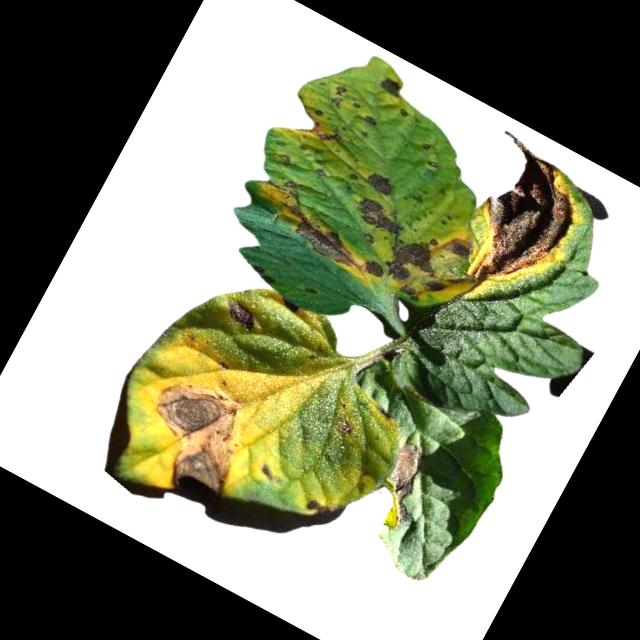Early_blight: (434, 125, 605, 310), (116, 356, 270, 510), (247, 171, 375, 272), (375, 225, 463, 313), (363, 436, 436, 532), (215, 291, 265, 339), (354, 192, 407, 236), (300, 483, 344, 522), (373, 68, 412, 103), (362, 164, 400, 199), (308, 117, 344, 147), (358, 252, 388, 282), (326, 80, 351, 109), (331, 412, 359, 437), (255, 459, 279, 482), (360, 109, 378, 127)
